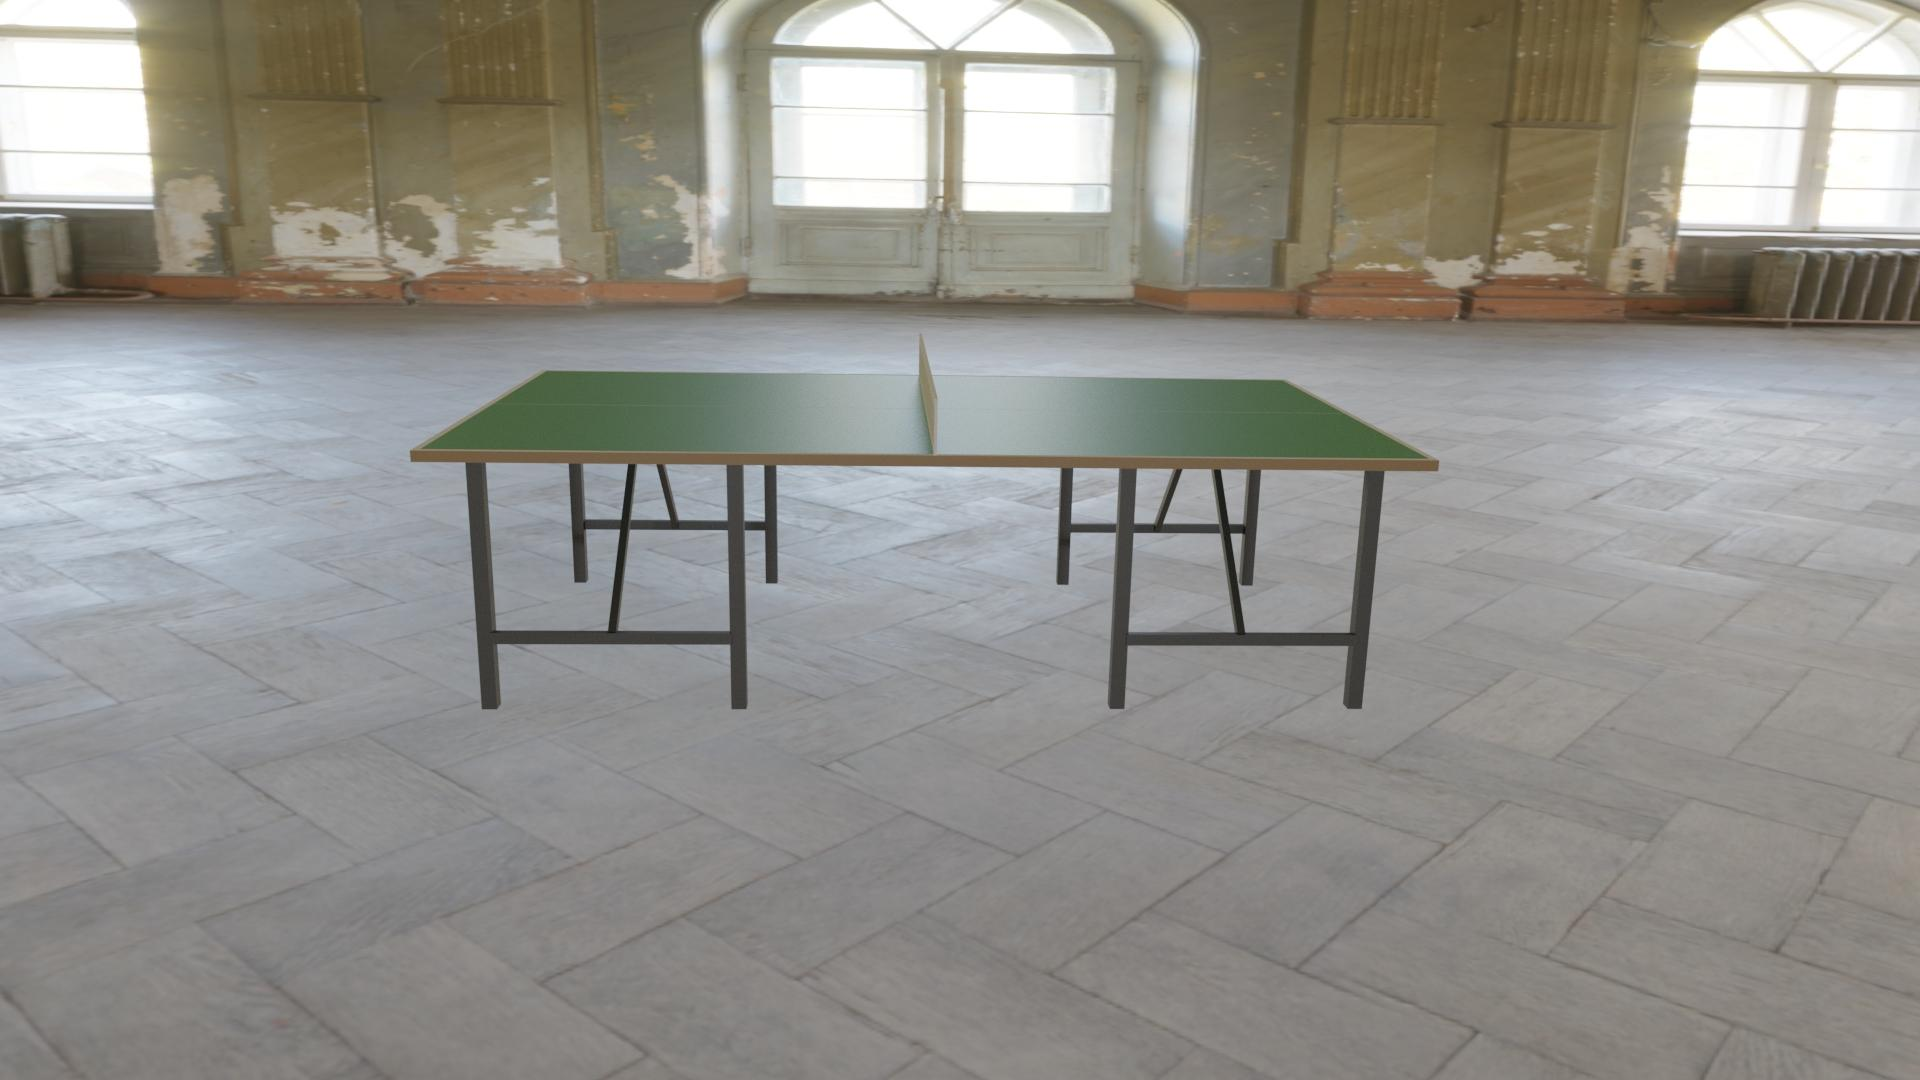table: (419, 371, 1429, 459)
